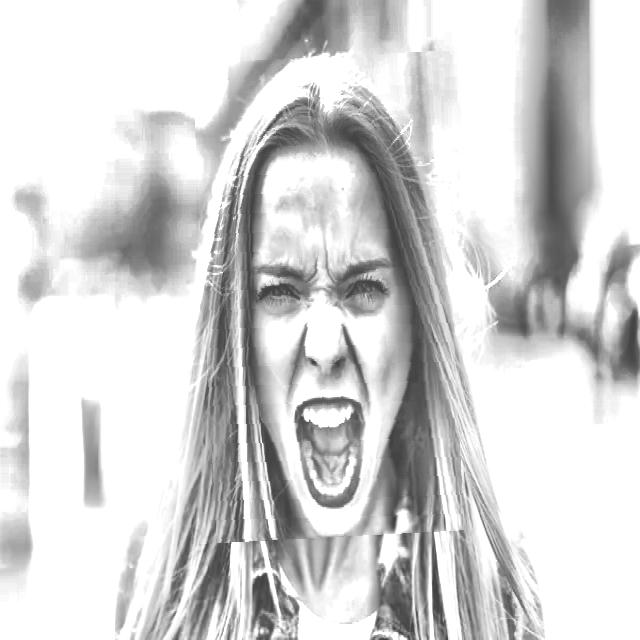angry: (198, 54, 458, 540)
